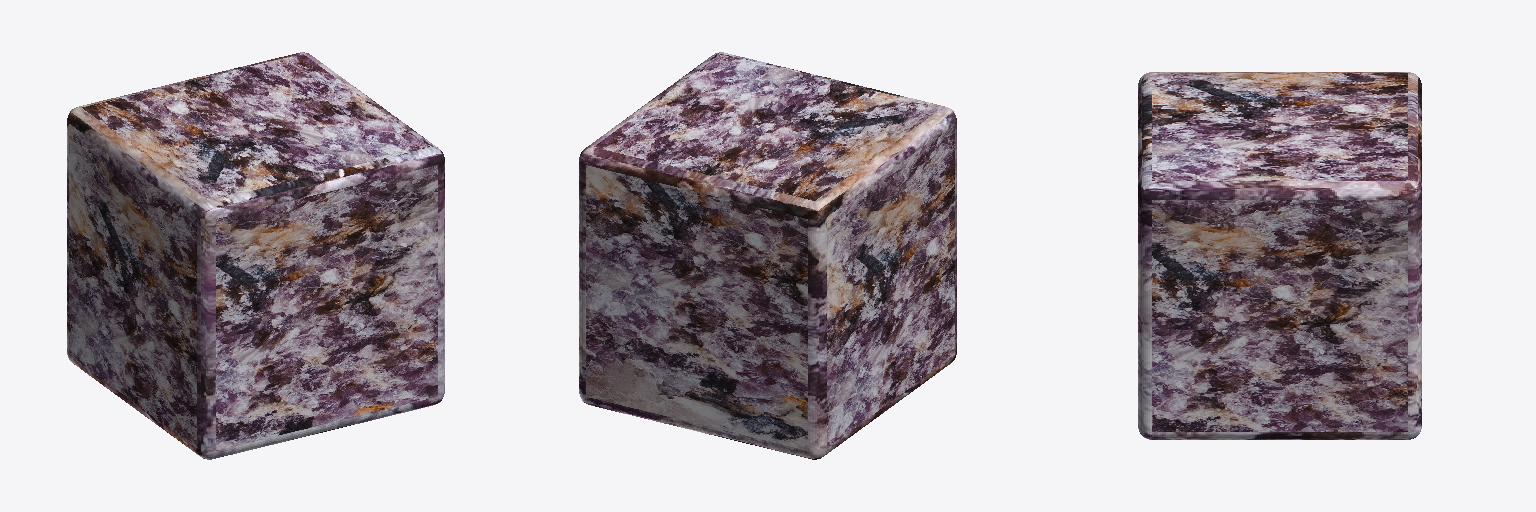
3 views of the same model, side by side, from view 1: azimuth 30°, elevation 25°; view 2: azimuth 150°, elevation 25°; view 3: azimuth 270°, elevation 25° (orthographic).
Visible parts, largest first — view 1: Cube; view 2: Cube; view 3: Cube.
Part boxes in pixels (x1,y1,x2,y2): Cube: (67,52,444,459); Cube: (579,52,956,459); Cube: (1138,72,1421,439).
Bounding box in the file's own units: 2 × 2 × 2.
Materials: 1 (1 with a texture image).